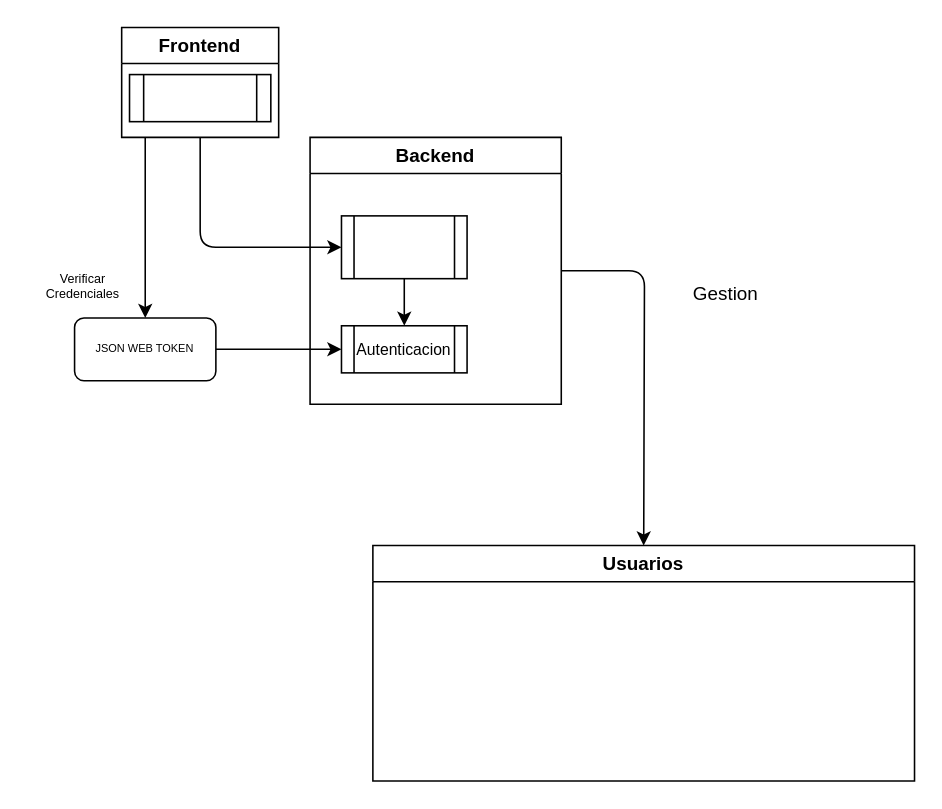
Image size: 942x809. Some labels were removed from this diagram. Each missing label, with the box of its shape:
Node js + Express: (340, 214, 467, 279)
Vite + React js: (128, 73, 271, 122)
